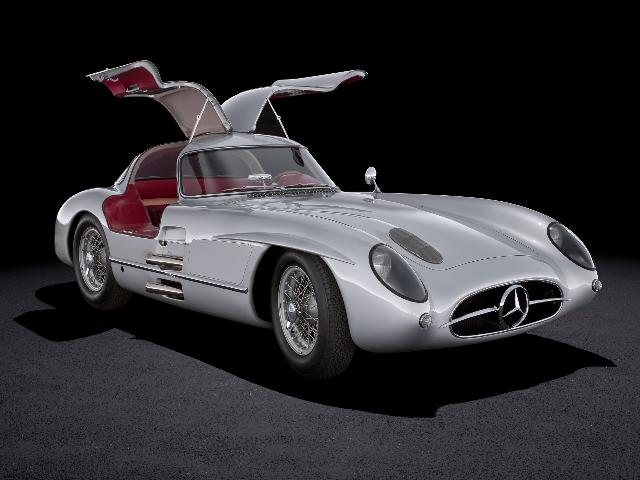benz: (54, 59, 604, 381)
